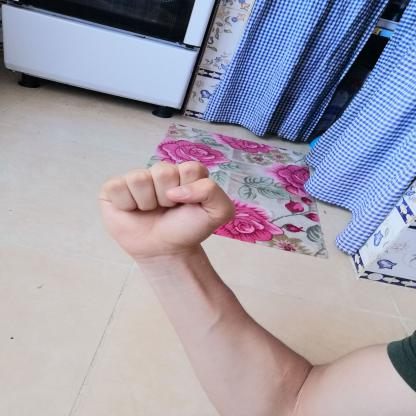SAD: (81, 151, 247, 269)
